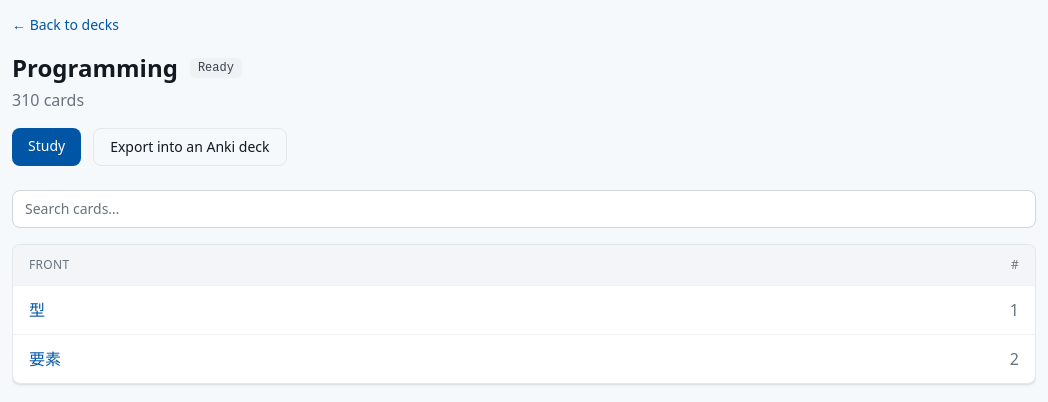
Test: DeckPage › filters cards when the user searches
Check: the link "型" is shown, box [29,299,45,321]
Type "型" into the field labelled "Search cards…".
click(524, 209); type("型")  # box [12,190,1036,228]
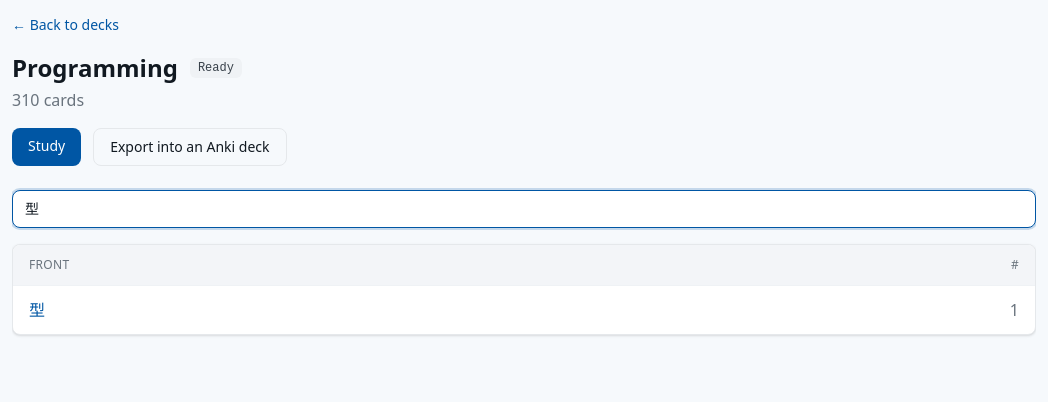
Check: the link "要素" is gone
